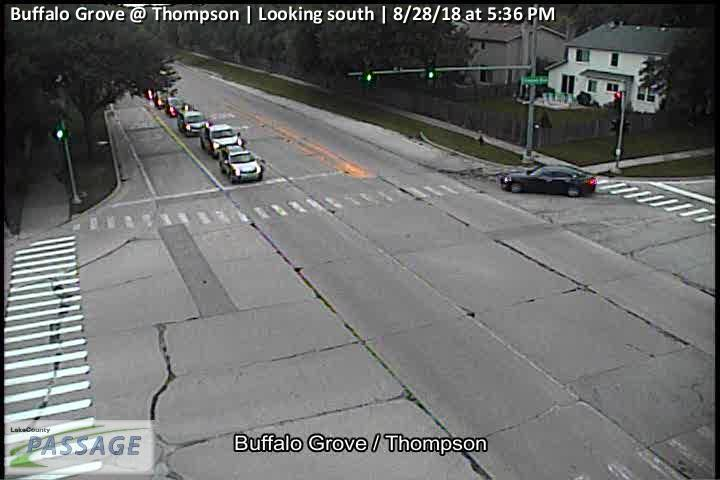SUV: (500, 164, 598, 198), (218, 145, 265, 184), (200, 124, 244, 160), (177, 110, 210, 138)
